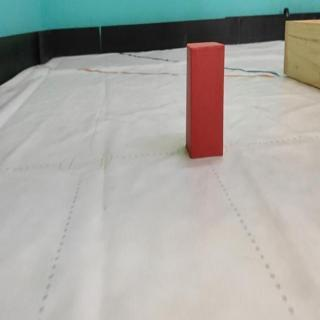redbox: (185, 41, 226, 158)
